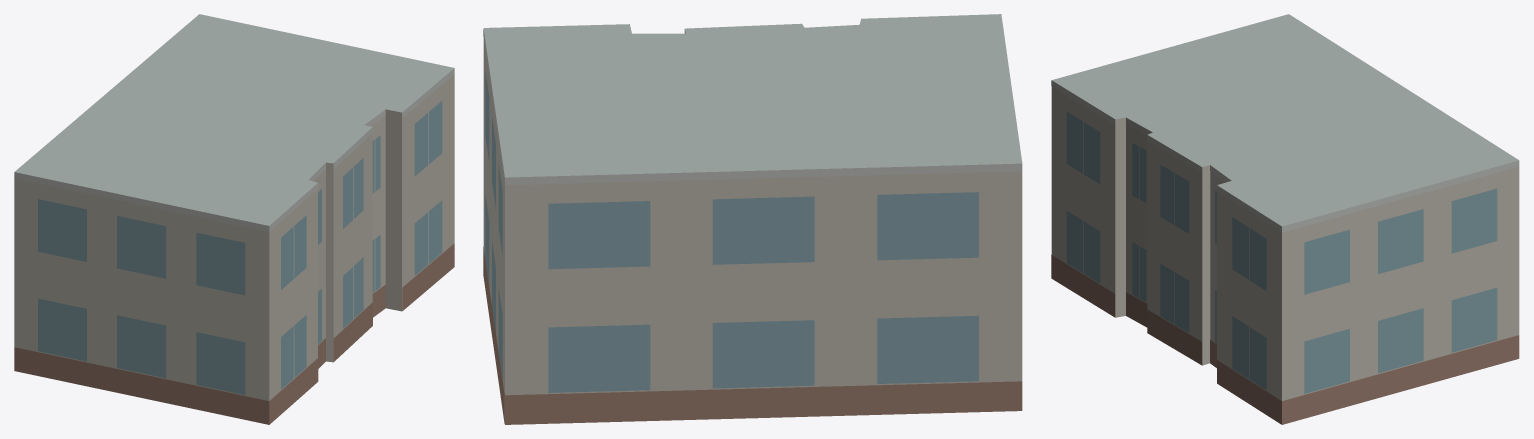
Rendered from survey-upis-32624862.glb.
The picture shows the model from 3 angles, left to right: view 1: azimuth 30°, elevation 25°; view 2: azimuth 150°, elevation 25°; view 3: azimuth 270°, elevation 25°; orthographic projection. The views are drawn at different scales.
Parts seen in each view (by area): view 1: survey-upis-32624862.tmp; view 2: survey-upis-32624862.tmp; view 3: survey-upis-32624862.tmp.
Boxes of the visible parts, x1,y1,x2,y2 form: survey-upis-32624862.tmp: (14, 14, 454, 424); survey-upis-32624862.tmp: (483, 14, 1022, 424); survey-upis-32624862.tmp: (1051, 14, 1519, 424).
Bounding box in the file's own units: 18.17 × 7.9 × 16.9.
